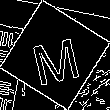M_N: (27, 25, 83, 85)
